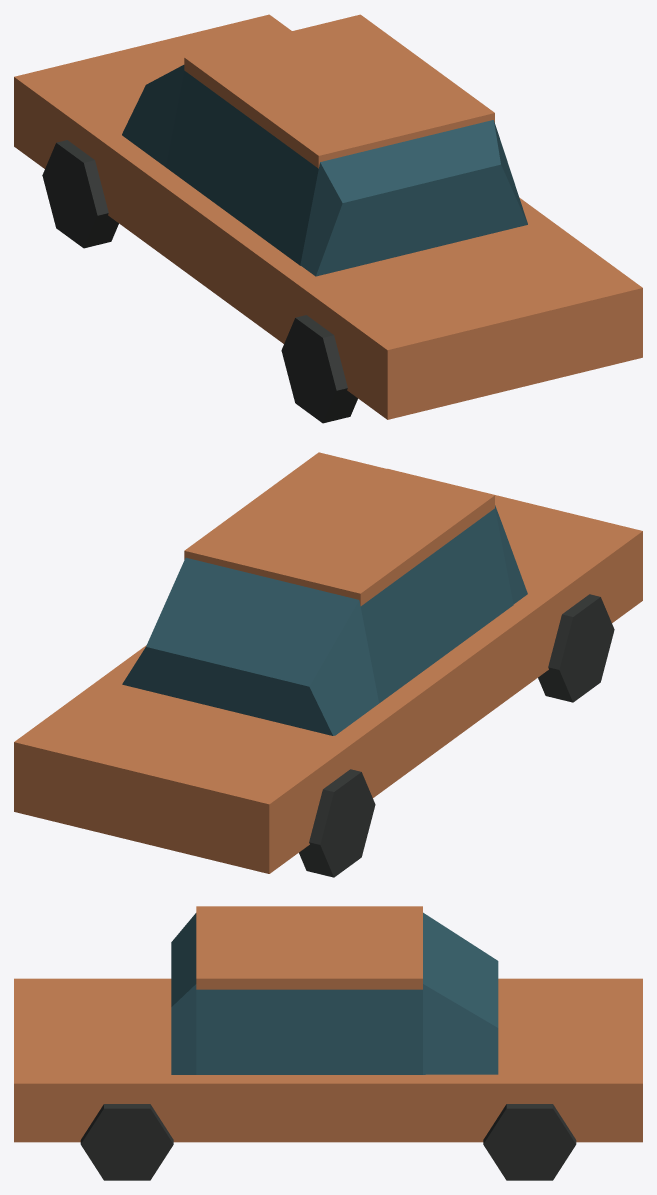
Rendered from car_far.glb.
The picture shows the model from 3 angles, top to bottom: view 1: azimuth 30°, elevation 25°; view 2: azimuth 150°, elevation 25°; view 3: azimuth 270°, elevation 25°; orthographic projection. The views are drawn at different scales.
Parts seen in each view (by area): view 1: CarModel traffic_copper, Supported cabin glazing, CarModel traffic_rubber; view 2: CarModel traffic_copper, Supported cabin glazing, CarModel traffic_rubber; view 3: CarModel traffic_copper, Supported cabin glazing, CarModel traffic_rubber.
Boxes of the visible parts, left/top/right/bottom form: CarModel traffic_copper: left=14, top=14, right=642, bottom=419; Supported cabin glazing: left=122, top=65, right=527, bottom=276; CarModel traffic_rubber: left=42, top=140, right=357, bottom=423; CarModel traffic_copper: left=14, top=452, right=642, bottom=873; Supported cabin glazing: left=122, top=505, right=527, bottom=735; CarModel traffic_rubber: left=299, top=594, right=614, bottom=877; CarModel traffic_copper: left=14, top=906, right=642, bottom=1142; Supported cabin glazing: left=171, top=912, right=498, bottom=1074; CarModel traffic_rubber: left=80, top=1104, right=576, bottom=1180.
Bounding box in the file's own units: 2.04 × 1.51 × 4.75.
